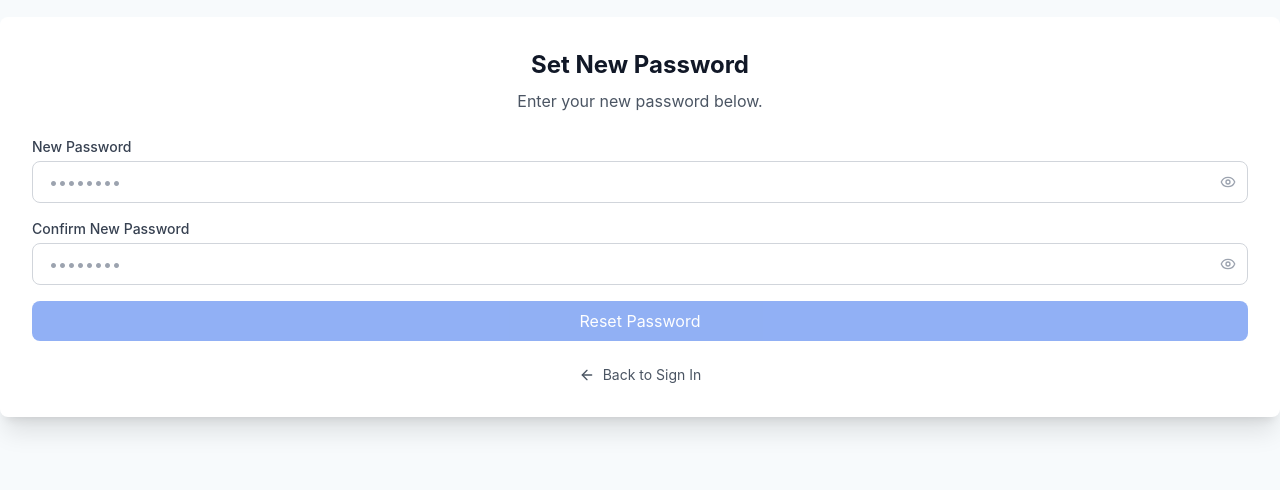
ResetPasswordPage › displays success message after successful reset
The image size is (1280, 490).
Type "NewPassword123" into the password field labelled "New Password". click: (640,182)
box: [32, 161, 1248, 203]
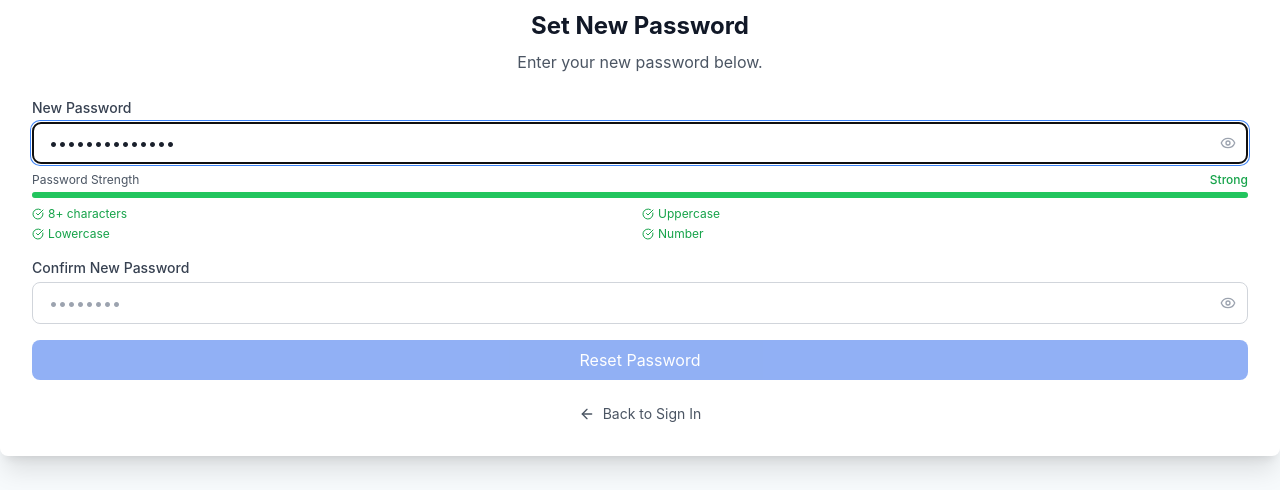
Type "NewPassword123" into the password field labelled "Confirm New Password". click: (640,303)
box: [32, 282, 1248, 324]
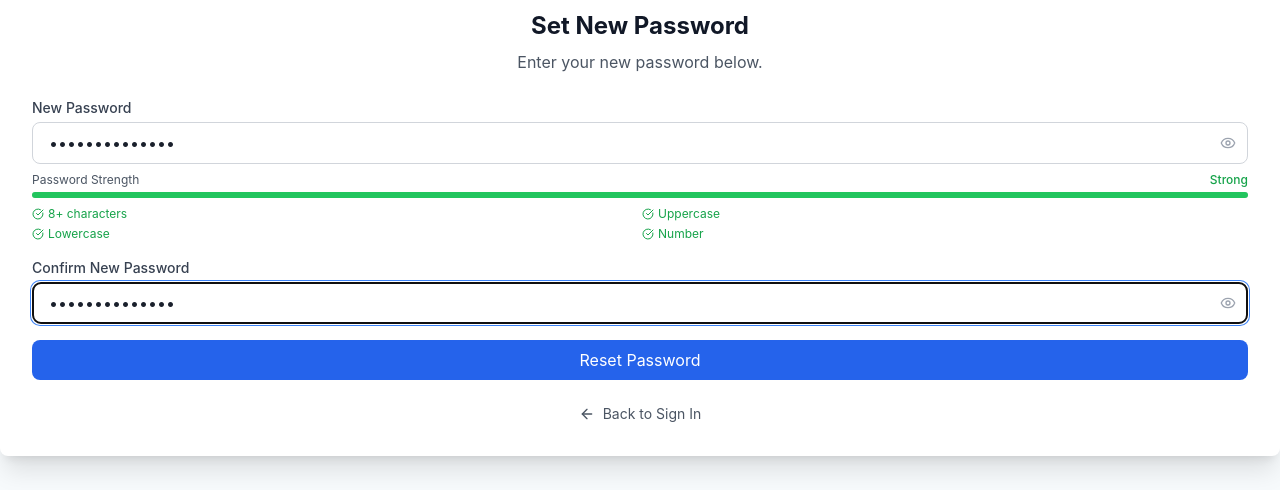
Click the button "Reset Password". click: (640,360)
box: [32, 340, 1248, 380]
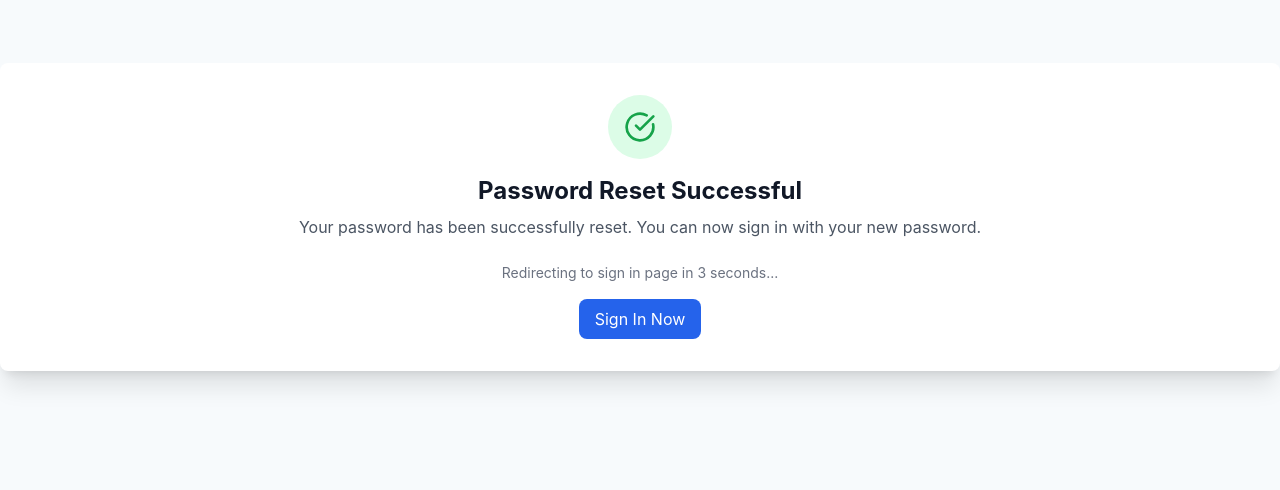
expect the heading "Password Reset Successful" is shown: met, box [478, 176, 802, 205]
expect the text "Your password has been successfully reset" is shown: met, box [299, 217, 981, 237]
